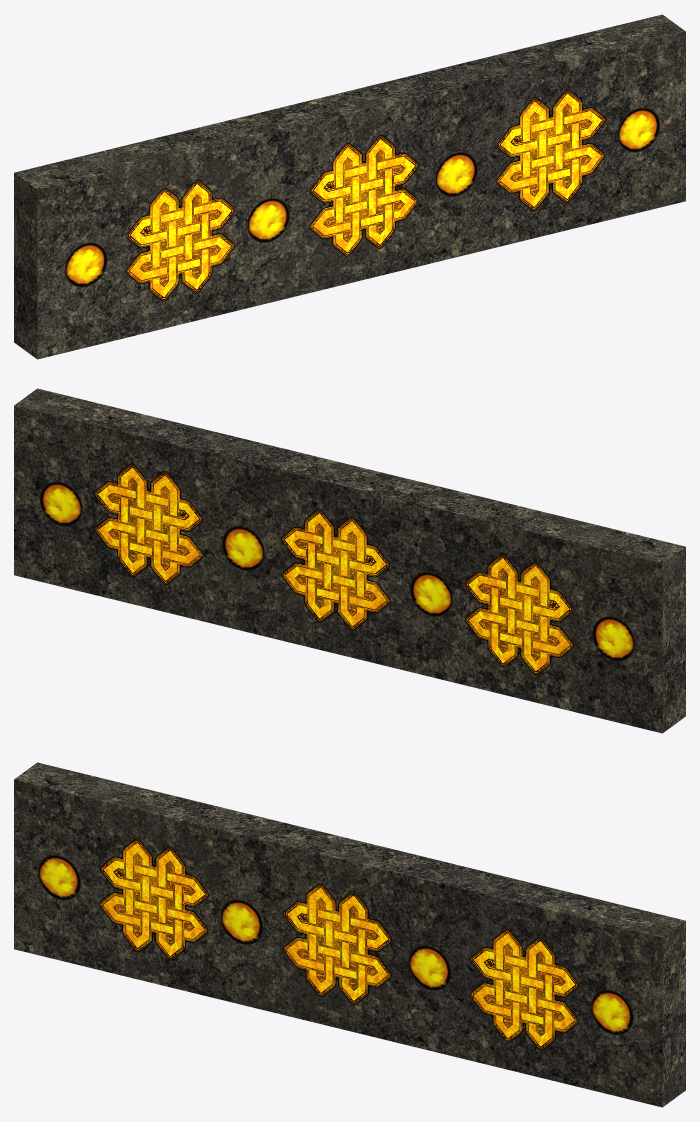
The model's file is mountain_border_plank.gltf.
The picture shows the model from 3 angles, top to bottom: view 1: azimuth 30°, elevation 25°; view 2: azimuth 150°, elevation 25°; view 3: azimuth 330°, elevation 25°; orthographic projection.
Visible parts, largest first — view 1: mountain_border_plank_glb; view 2: mountain_border_plank_glb; view 3: mountain_border_plank_glb.
Boxes of the visible parts, left/top/right/bottom form: mountain_border_plank_glb: left=14, top=14, right=685, bottom=359; mountain_border_plank_glb: left=14, top=388, right=685, bottom=733; mountain_border_plank_glb: left=14, top=762, right=685, bottom=1107.
Size of what is drawn, in the model's own units: 4 by 1 by 0.2849.
2 materials, 2 textured.
